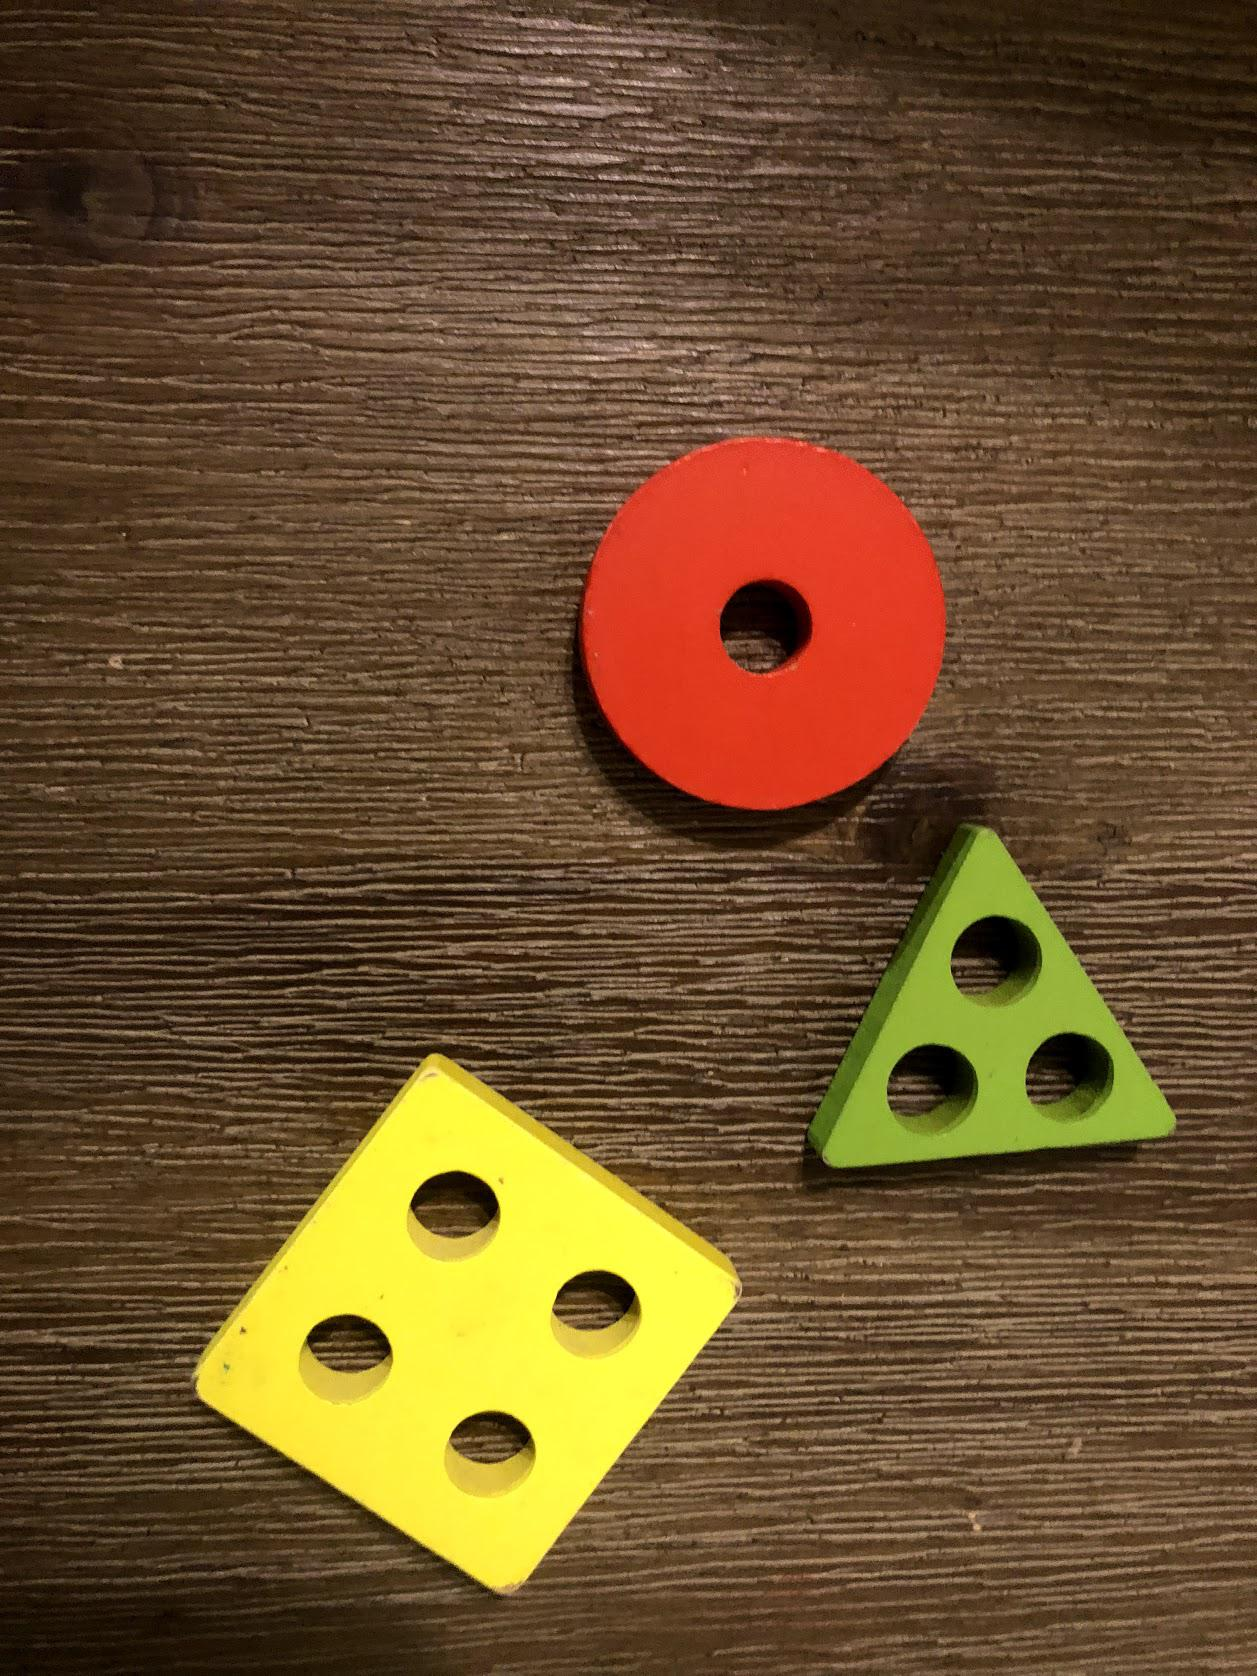Circle: (578, 433, 951, 816)
Square: (185, 1054, 749, 1597)
Triangle: (800, 830, 1180, 1163)
